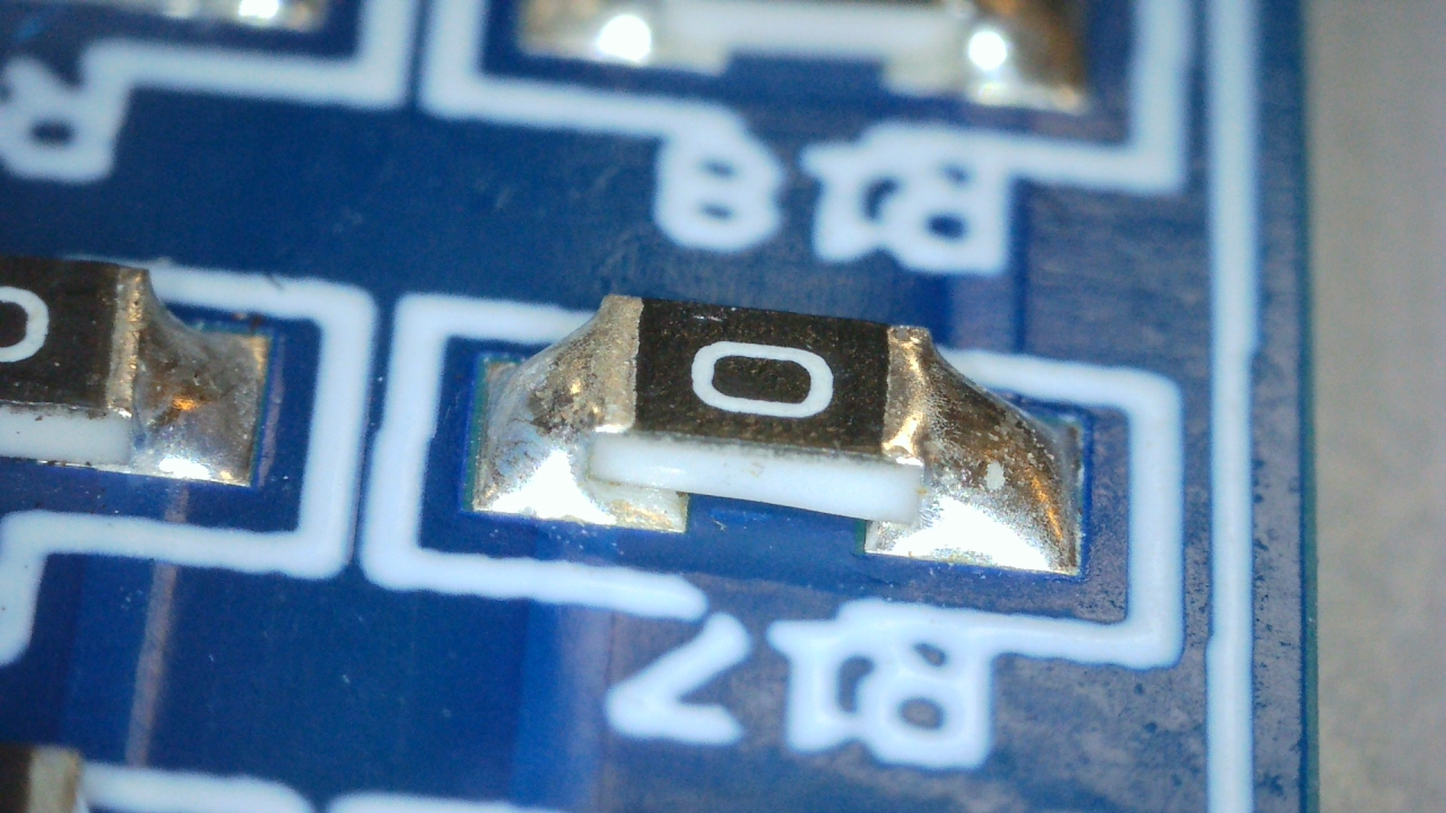NG: (878, 326, 1073, 565), (482, 296, 642, 516)
